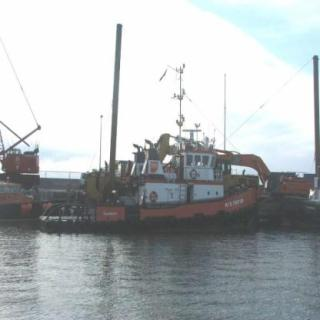Tug Boat: (34, 80, 271, 225)
